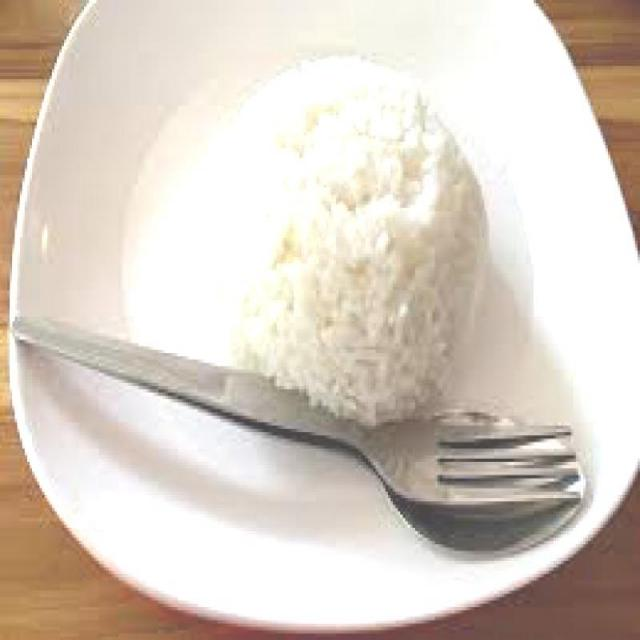rice: (196, 56, 486, 431)
